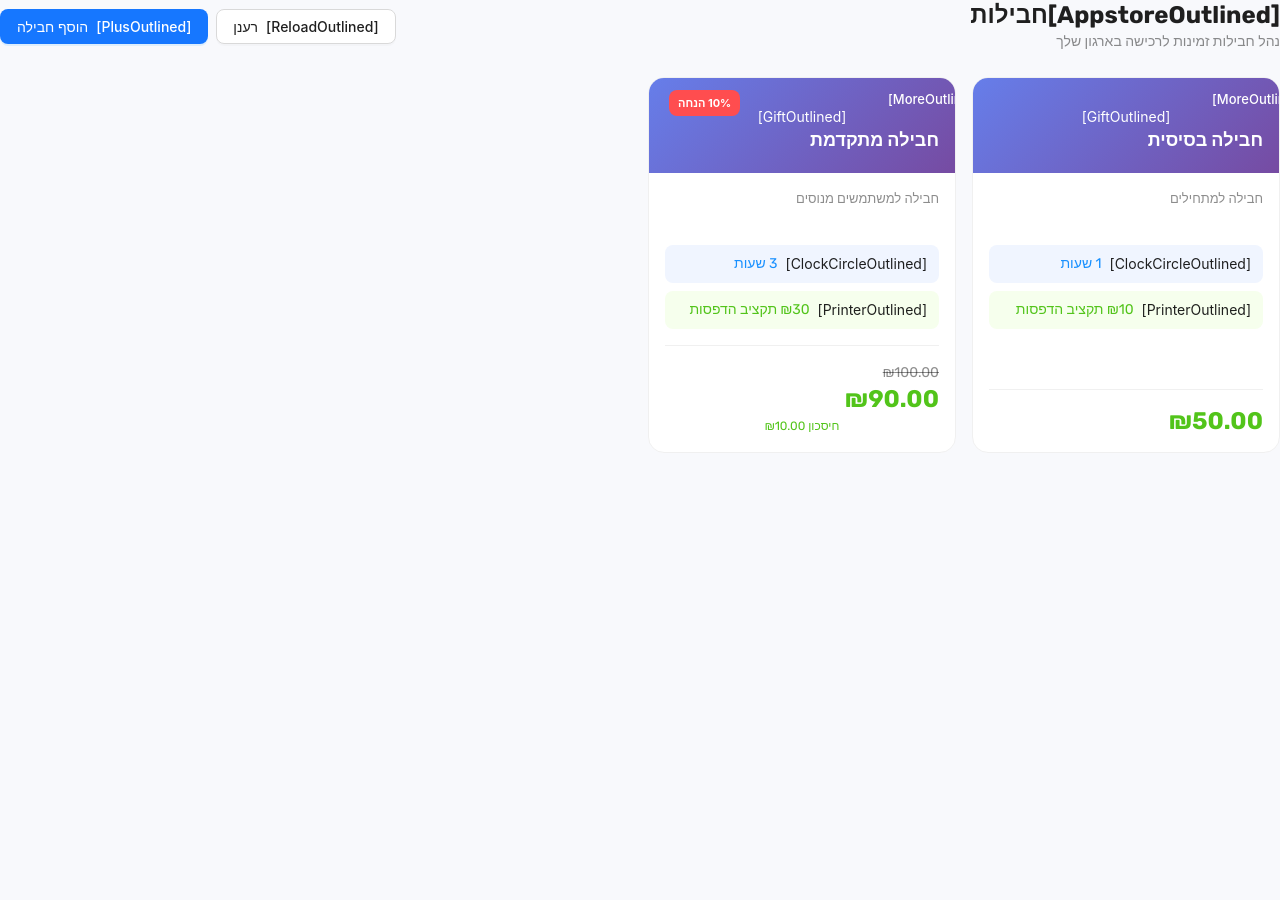
PackagesPage › opens create modal when create button clicked
Click the text "הוסף חבילה": (53, 26) [17,18,88,35]
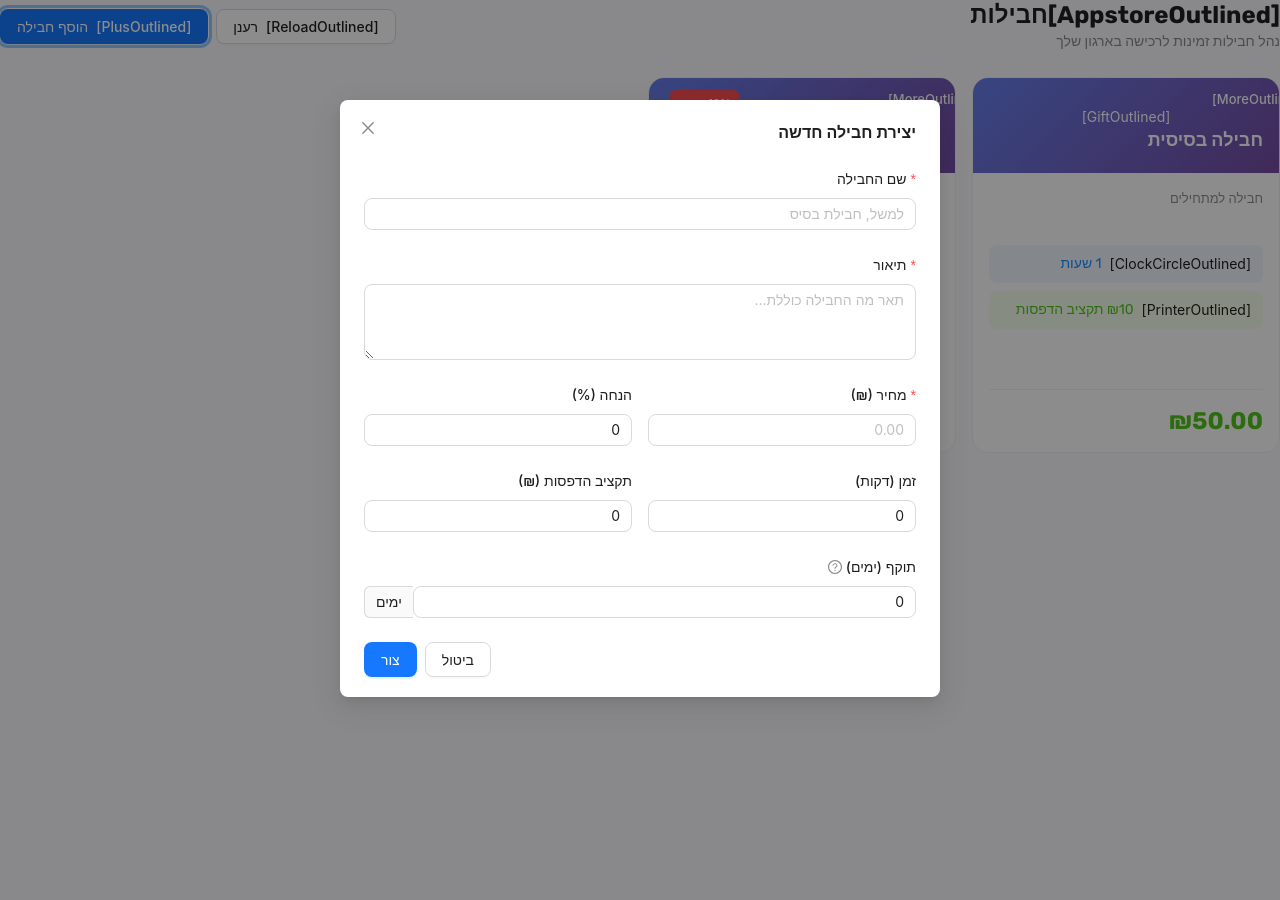
Now the field labelled "שם החבילה" is shown, box [364,198,916,230]
